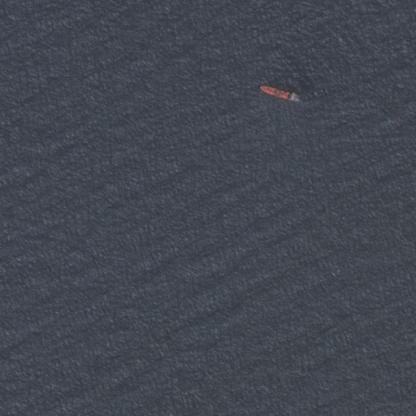ship: (251, 78, 308, 106)
